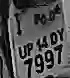1: (35, 35, 43, 53)
4: (41, 37, 50, 51)
7: (53, 43, 66, 67), (21, 57, 34, 78)
9: (34, 52, 45, 75), (43, 49, 55, 70)
D: (50, 30, 60, 48)
P: (26, 41, 34, 57)
U: (17, 41, 27, 62)
Y: (56, 28, 66, 41)
